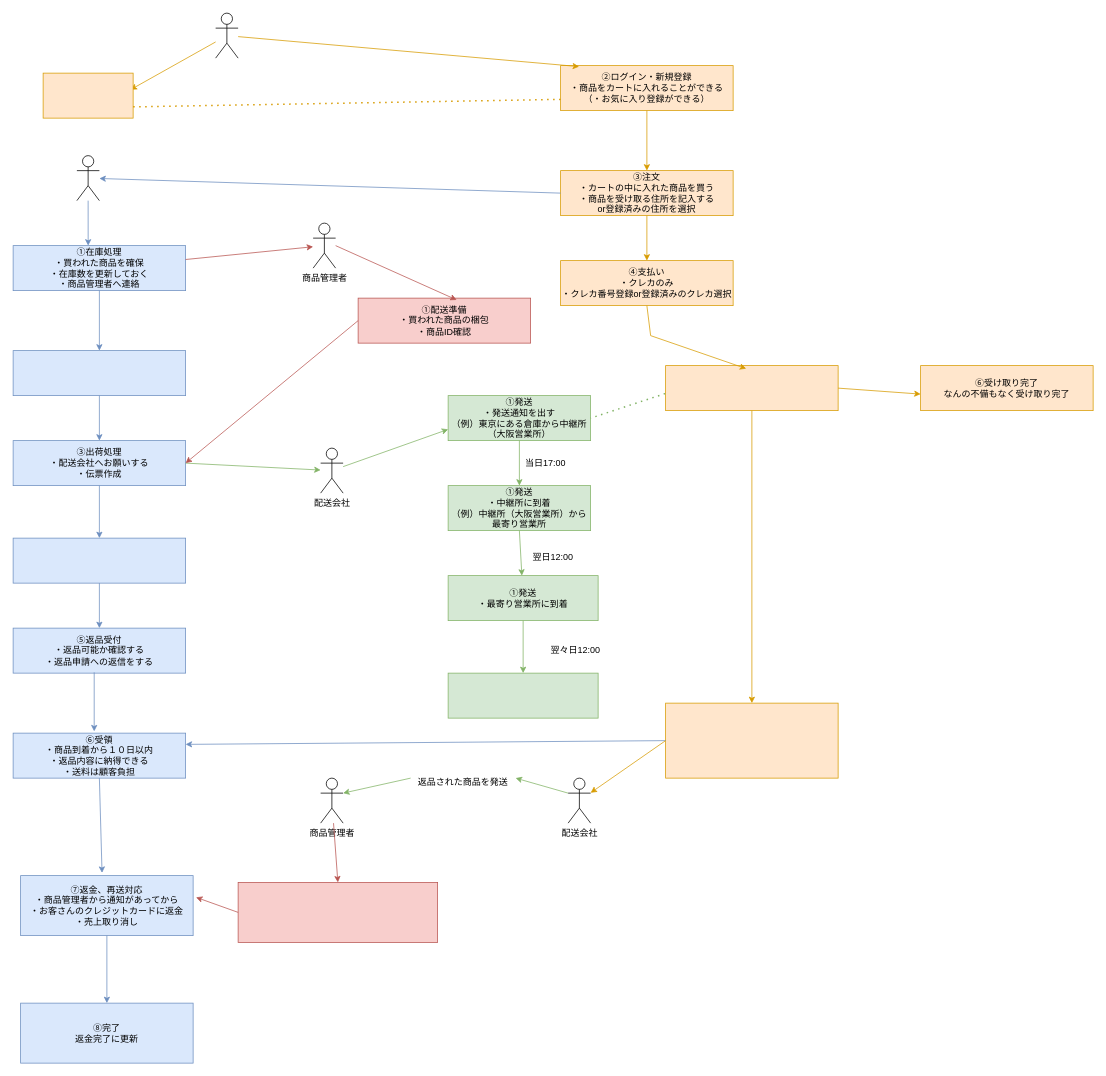
Some shapes in this 1106 by 1076 pixel diagram are drawn without their labels. The shapes that lost their labels are listed below. From the top down, each one's centre as x and y in pixels, then its label:
At point 226,35: "顧客".
At point 87,95: "①商品一覧表示 ・ログインしてなくても閲覧のみ可能".
At point 87,178: "システム管理者".
At point 99,373: "②支払い確認 ・決済完了しているか".
At point 751,388: "⑤配送状況確認 ・配送会社からの追跡機能を見ることができる".
At point 99,560: "④配送状況確認 ・配達完了できているか確認をする".
At point 522,695: "①配達完了 ・お客さんの家に到着".
At point 751,740: "⑥1.返品申請 ・商品に不備があるもしくはサイズ違いの場合サイトにて返品申請できる ・商品到着から１０日以内のみ受付可能 ・送料は顧客負担".
At point 337,912: "①返品処理 ・商品の状態をチェック ※良品＝倉庫に戻す、不良品＝破棄or値下げなど ・確認が終わったらシステム管理者へ".
